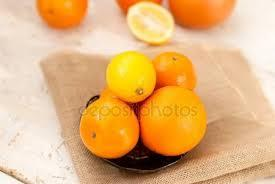Organic: (4, 6, 275, 184)
